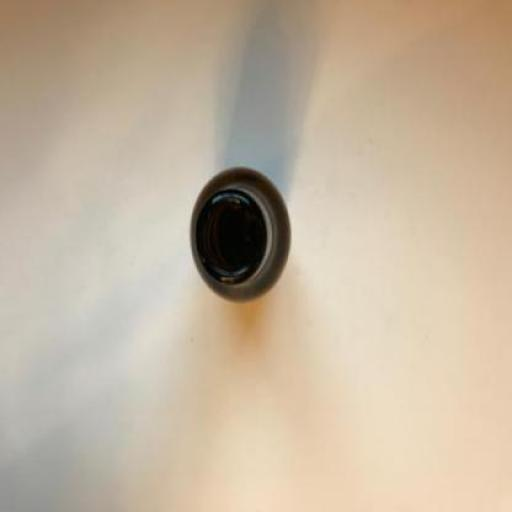glass: (190, 164, 292, 302)
